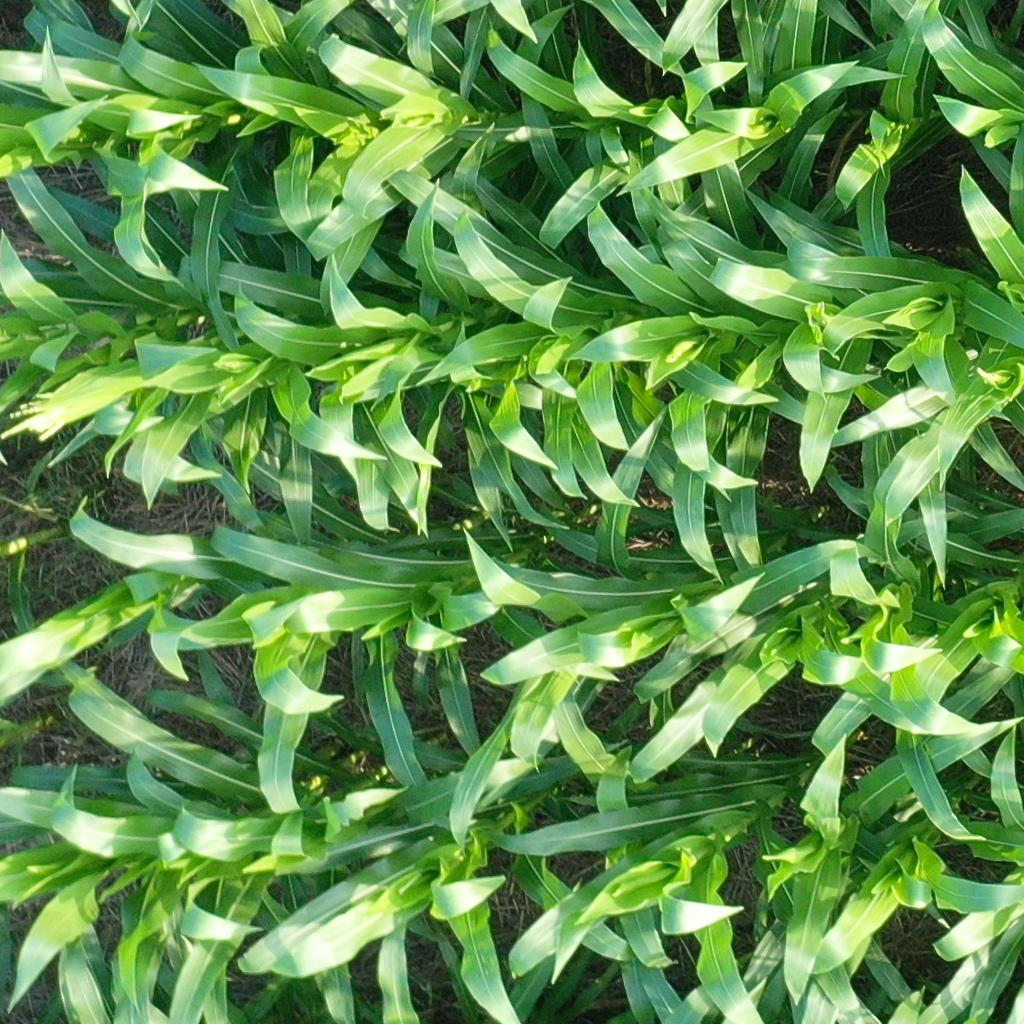Tassel: (1, 388, 63, 447)
